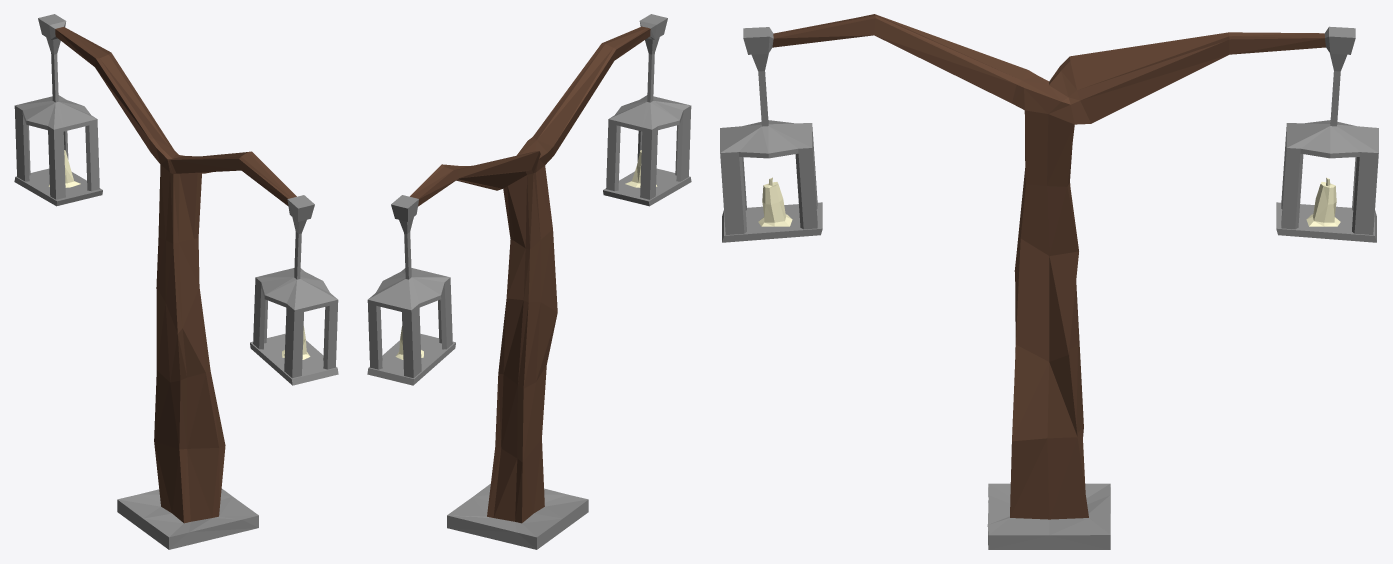
The model's file is DarkLamp.fbx.
The picture shows the model from 3 angles, left to right: view 1: azimuth 30°, elevation 25°; view 2: azimuth 150°, elevation 25°; view 3: azimuth 270°, elevation 25°; orthographic projection. The views are drawn at different scales.
Parts seen in each view (by area): view 1: Cube; view 2: Cube; view 3: Cube.
Boxes of the visible parts, x1,y1,x2,y2 form: Cube: (14, 14, 338, 549); Cube: (367, 14, 691, 549); Cube: (720, 14, 1378, 549).
Bounding box in the file's own units: 200 × 904 × 1078.
